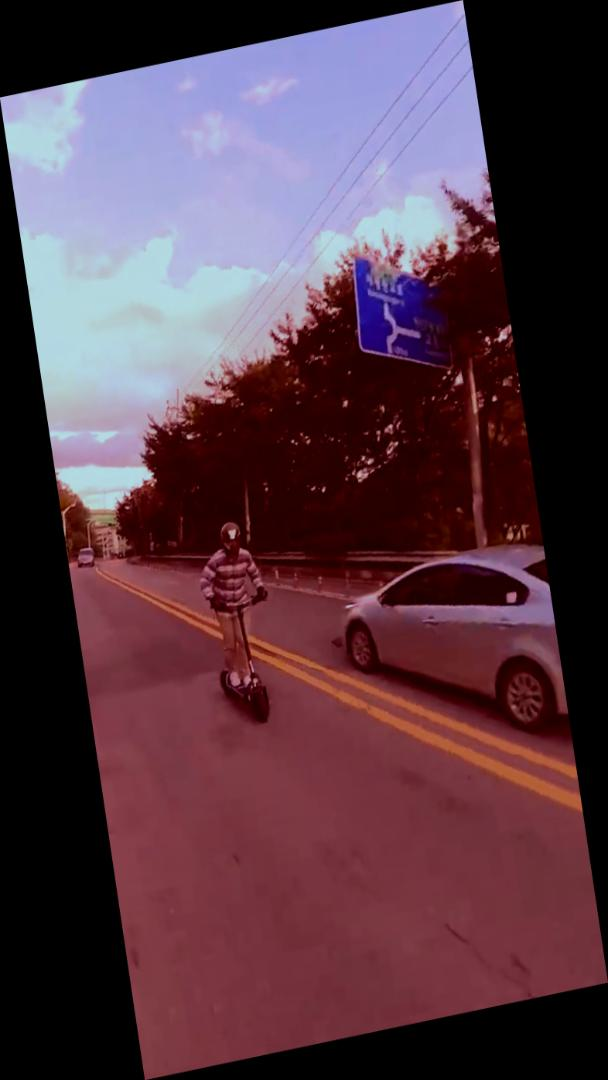helmet: (190, 511, 291, 736)
